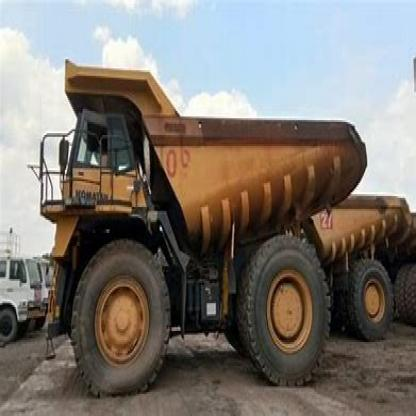dump_truck: (44, 54, 365, 396)
